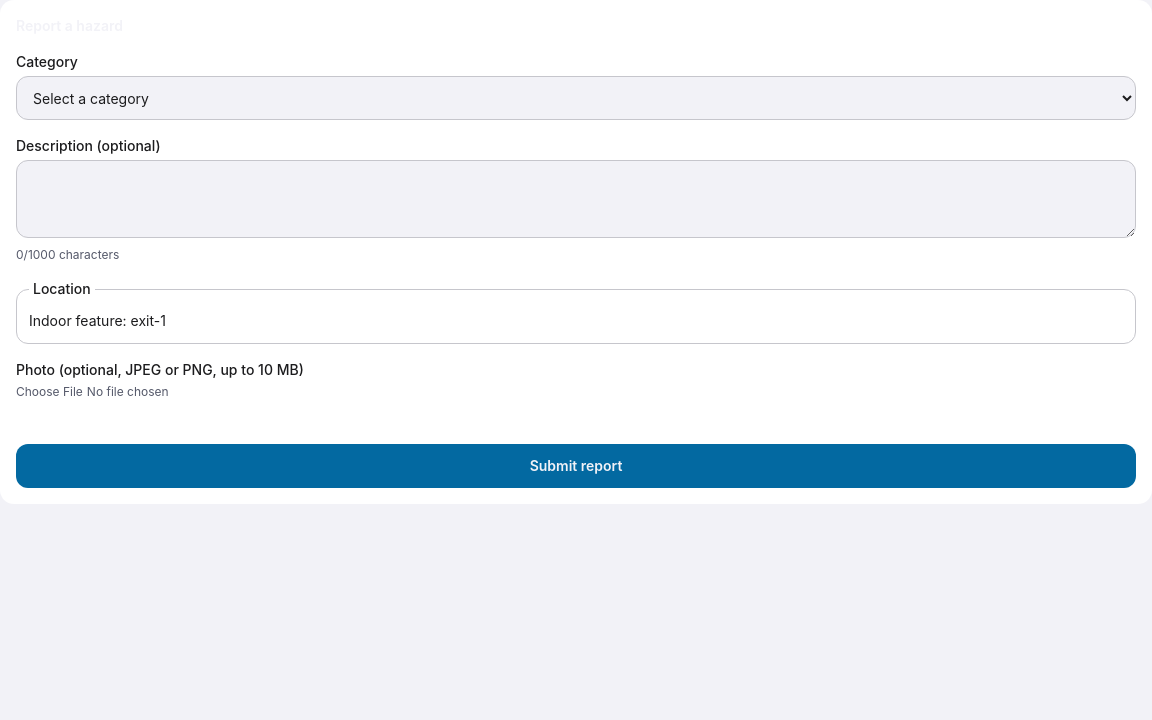
forms queue instead of sending while offline › ReportForm saves the report on this device and does not claim it was submitted
Select "flooding" in the dropdown labelled "Category": (576,98) [16,76,1136,120]
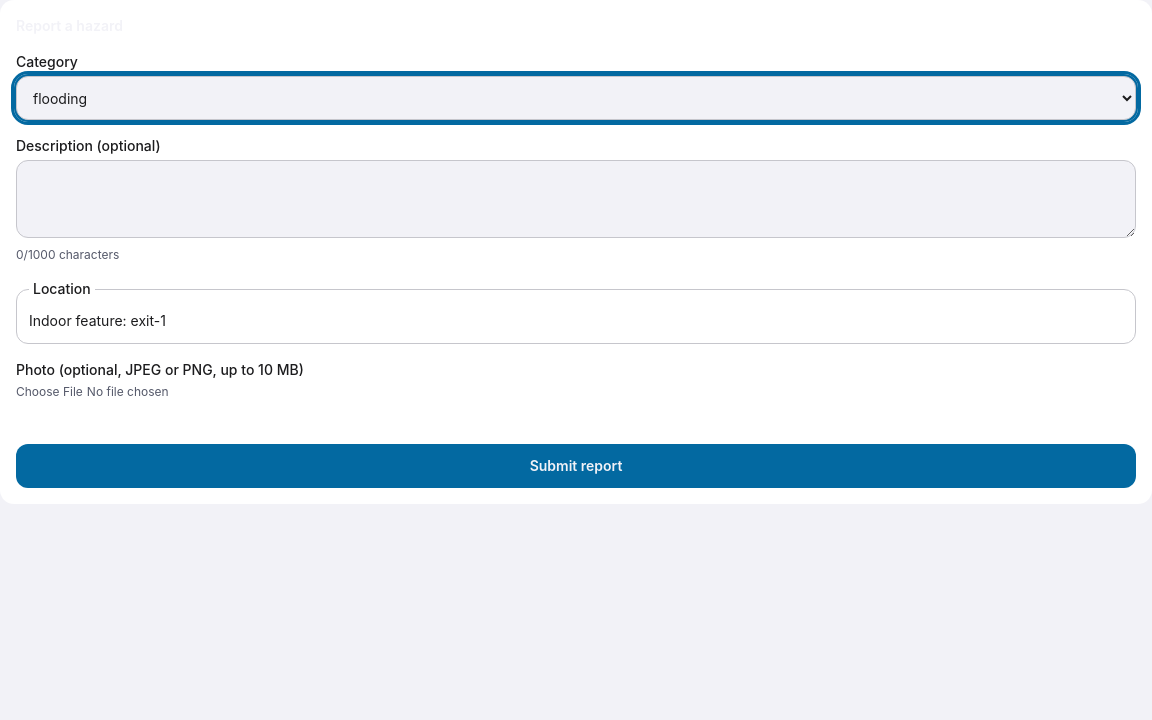
Click the button "Submit report": (576,466) [16,444,1136,488]
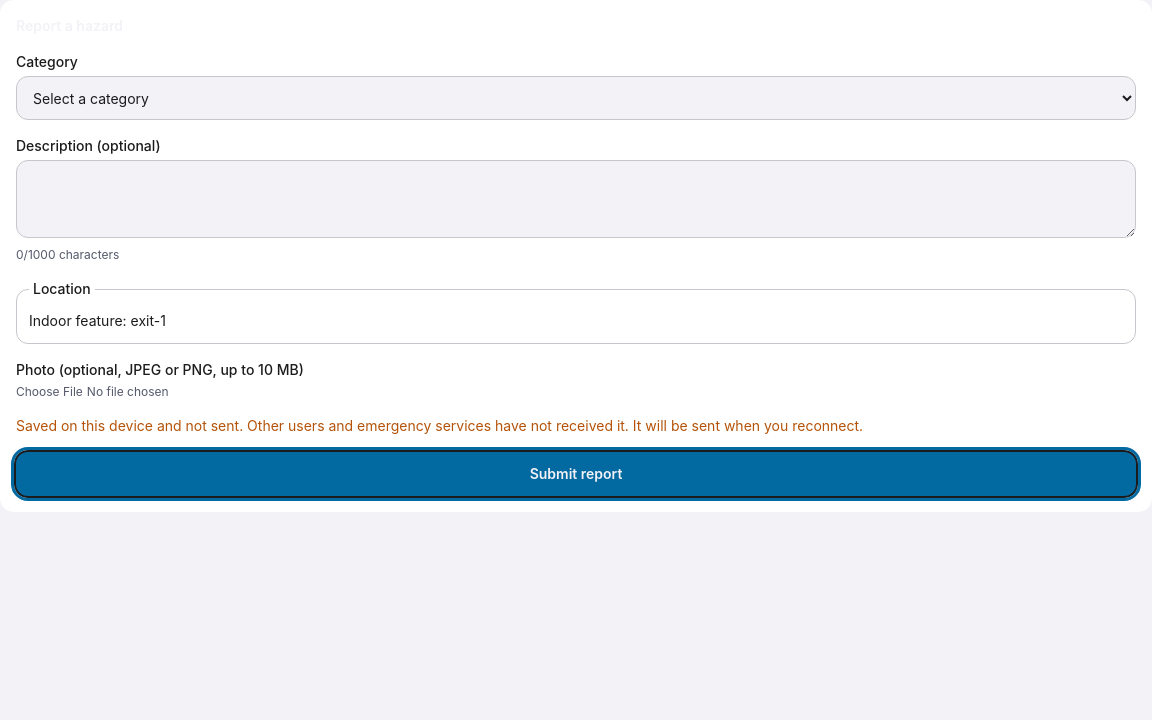
Result: the text "Saved on this device and not sent" is shown at [16,417,863,434]
